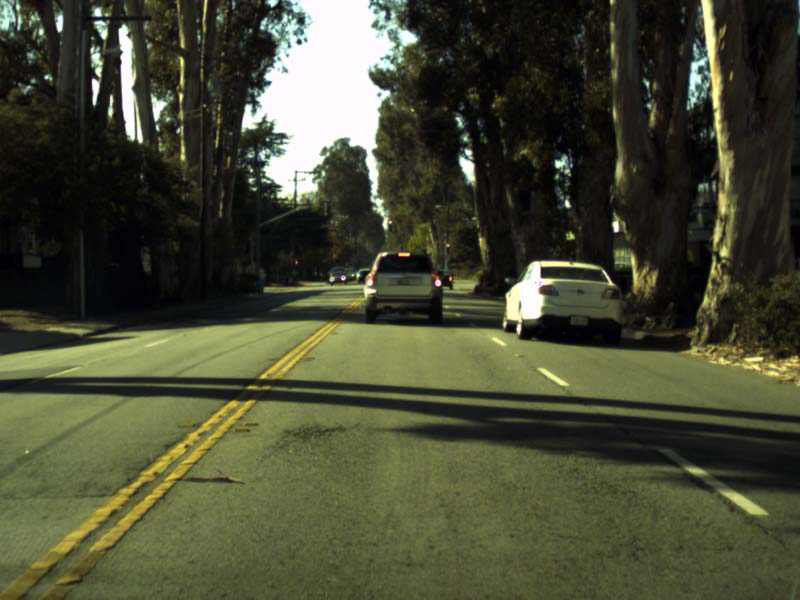Red: (387, 220, 391, 231), (445, 242, 449, 253)
